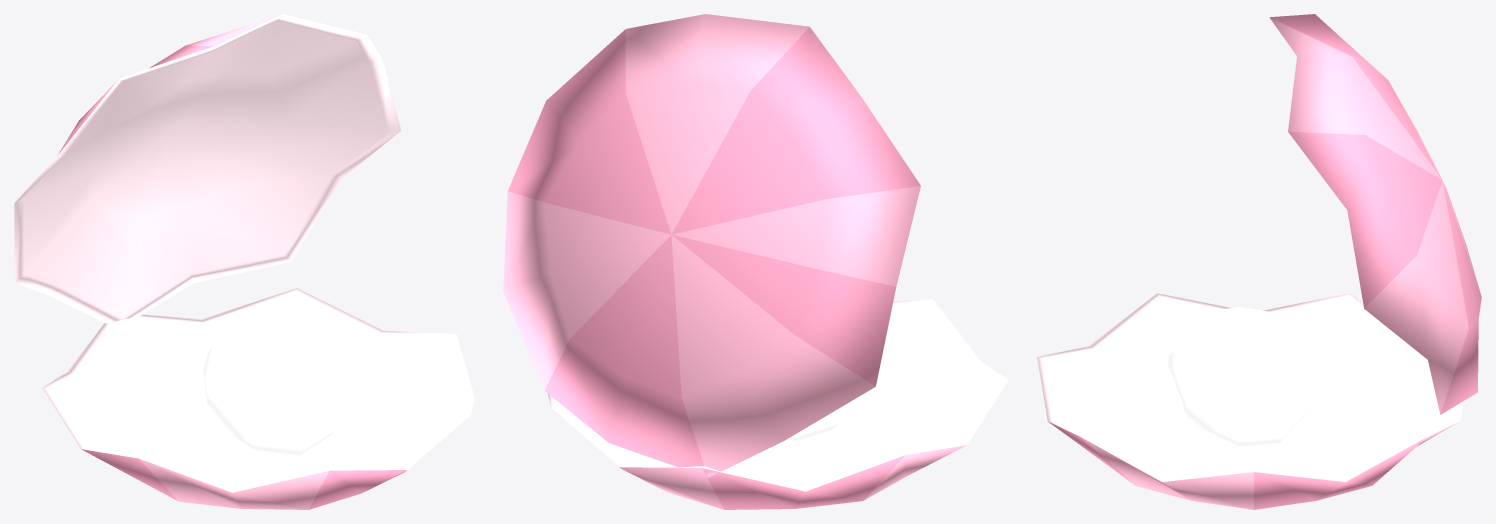
Rendered from pearl-clam.glb.
The picture shows the model from 3 angles, left to right: view 1: azimuth 30°, elevation 25°; view 2: azimuth 150°, elevation 25°; view 3: azimuth 270°, elevation 25°; orthographic projection. The views are drawn at different scales.
Visible parts, largest first — view 1: pearl-clam; view 2: pearl-clam; view 3: pearl-clam.
Boxes of the visible parts, x1,y1,x2,y2 form: pearl-clam: [14, 14, 474, 509]; pearl-clam: [503, 14, 1008, 509]; pearl-clam: [1037, 14, 1481, 509].
Bounding box in the file's own units: 1.17 × 1.32 × 1.2.
